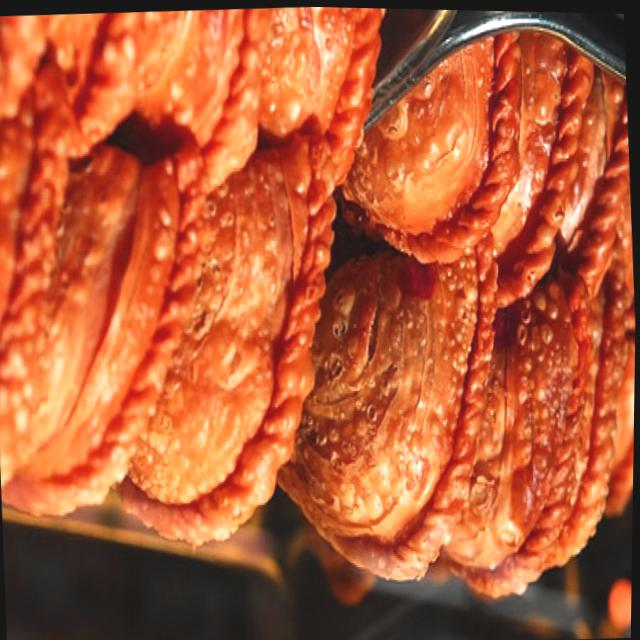炸货点心: (0, 0, 640, 637)
